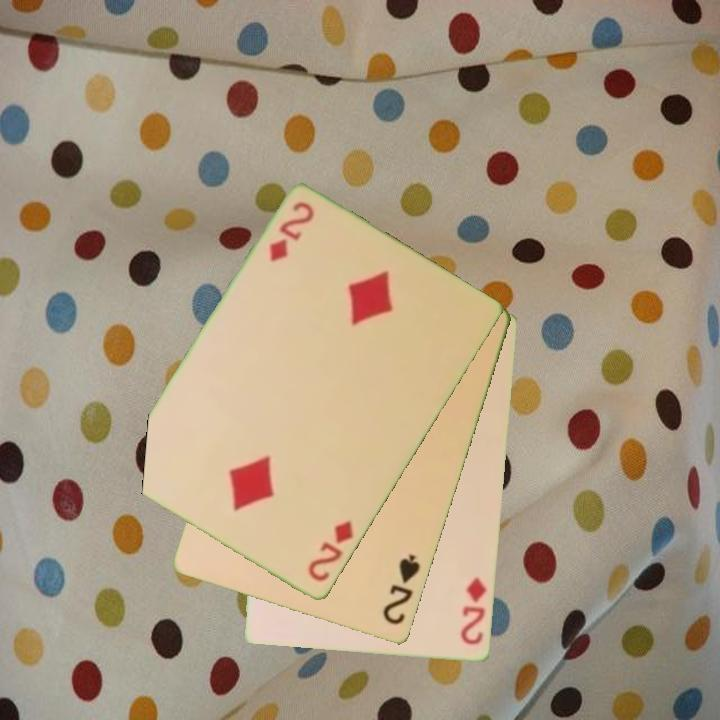2d: (304, 517, 357, 586), (265, 198, 318, 266), (457, 575, 490, 648)
2s: (379, 551, 424, 629)
